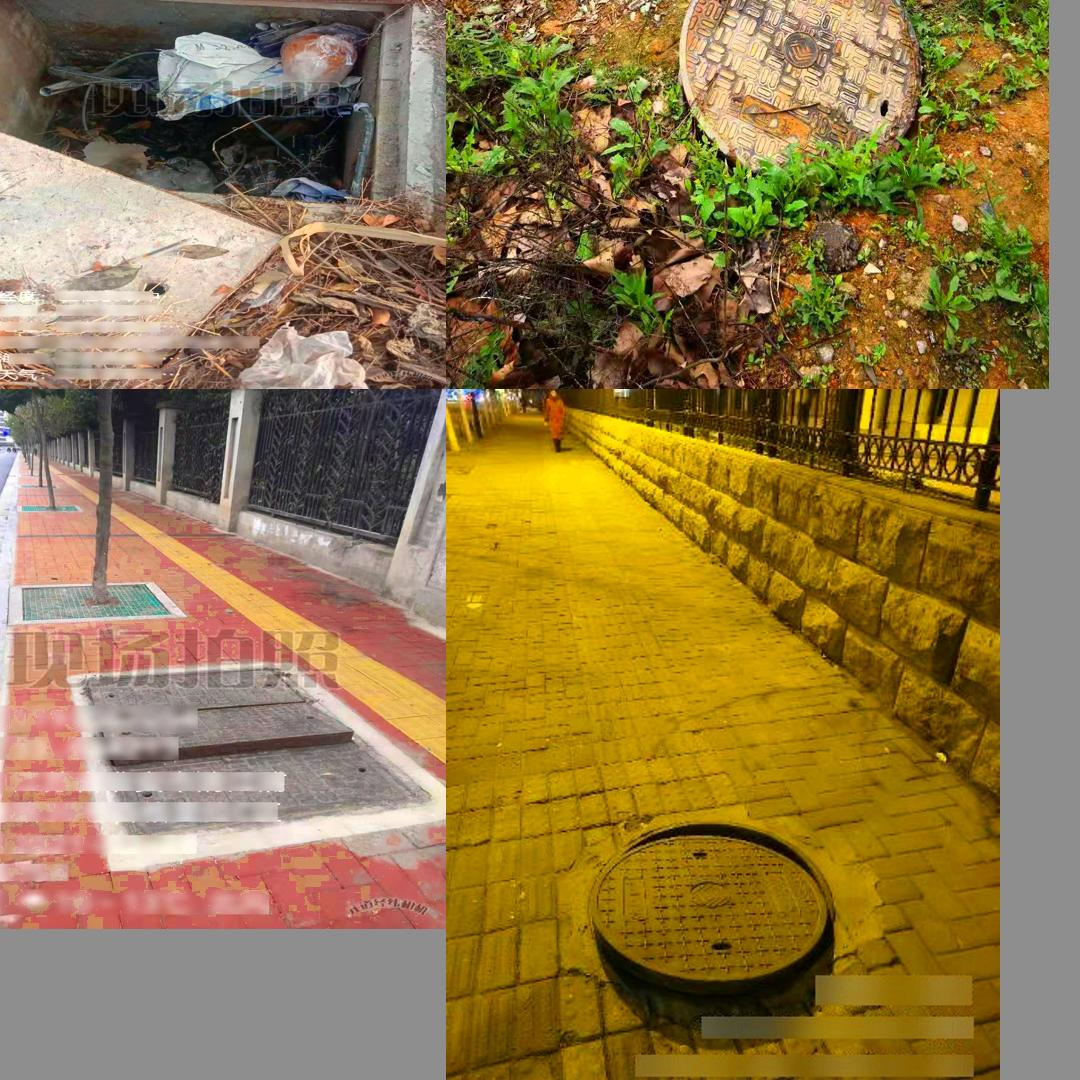uncovered: (0, 0, 446, 212), (73, 663, 433, 846), (590, 814, 836, 991), (677, 0, 921, 178)
